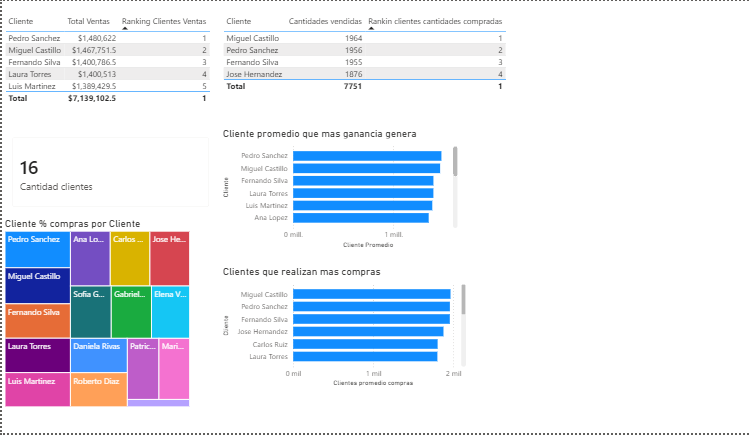

The page's visual inventory and layout, read from the dashboard file:
{"tool":"powerbi","page":{"name":"Clientes","canvas":[1280,720],"ordinal":3},"visuals":[{"type":"tableEx","fields":{"Values":["DimCliente.Cliente","FactVentas.Total Ventas","FactVentas.Ranking Clientes Ventas"]},"box":[0,18.8,362.5,161.2],"z":0},{"type":"tableEx","fields":{"Values":["DimCliente.Cliente","FactVentas.Cantidades vendidas","FactVentas.Rankin clientes cantidades compradas"]},"box":[362.5,18.8,485,148.8],"z":1000},{"type":"cardVisual","fields":{"Data":["FactVentas.Cantidad clientes"]},"box":[0,210,362,150],"z":2000},{"type":"barChart","title":"Cliente promedio que mas ganancia genera","fields":{"Category":["DimCliente.Cliente"],"Y":["FactVentas.Cliente Promedio"]},"box":[362.5,210,401.2,206.2],"z":3000},{"type":"barChart","title":"Clientes que realizan mas compras","fields":{"Category":["DimCliente.Cliente"],"Y":["FactVentas.Clientes promedio compras"]},"box":[362.5,440,415,207.5],"z":4000},{"type":"treemap","fields":{"Group":["DimCliente.Cliente"],"Values":["FactVentas.Cliente % compras"]},"box":[0,360,317.5,321.2],"z":5000}]}

Visuals, with their boxes on the page's 1280x720 design canvas (x1, y1, x2, y2). These are canvas units, not pixel positions in the 751x437 screenshot, which may show the page scaled, cropped or inside an application window:
tableEx - DimCliente.Cliente x FactVentas.Total Ventas: (0,19,362,180)
tableEx - DimCliente.Cliente x FactVentas.Cantidades vendidas: (362,19,848,168)
cardVisual - FactVentas.Cantidad clientes: (0,210,362,360)
"Cliente promedio que mas ganancia genera" barChart: (362,210,764,416)
"Clientes que realizan mas compras" barChart: (362,440,778,648)
treemap - DimCliente.Cliente x FactVentas.Cliente % compras: (0,360,318,681)
